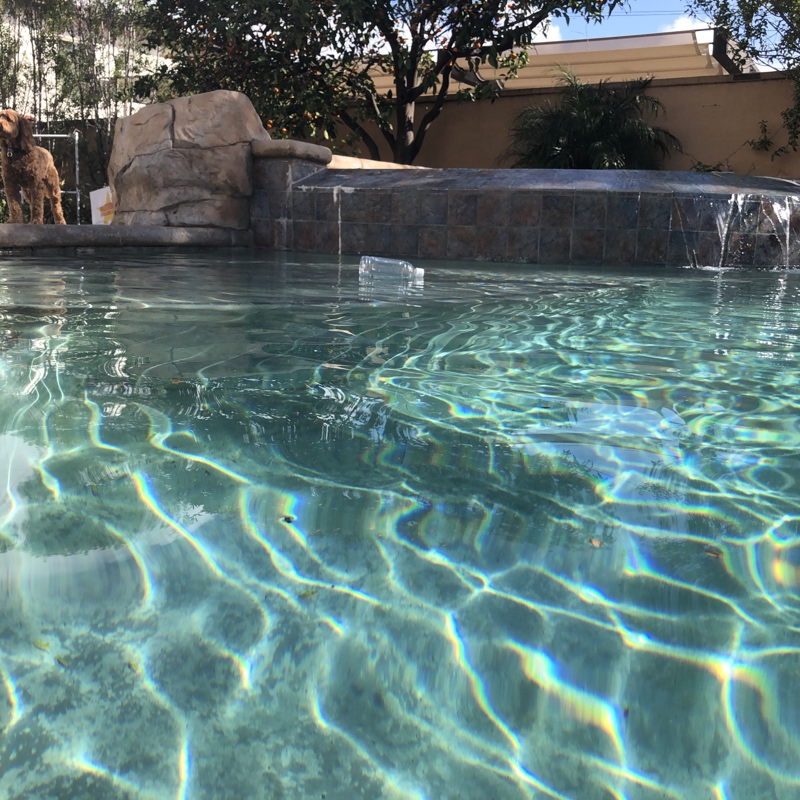Plastic Bottle: (353, 250, 429, 290)
